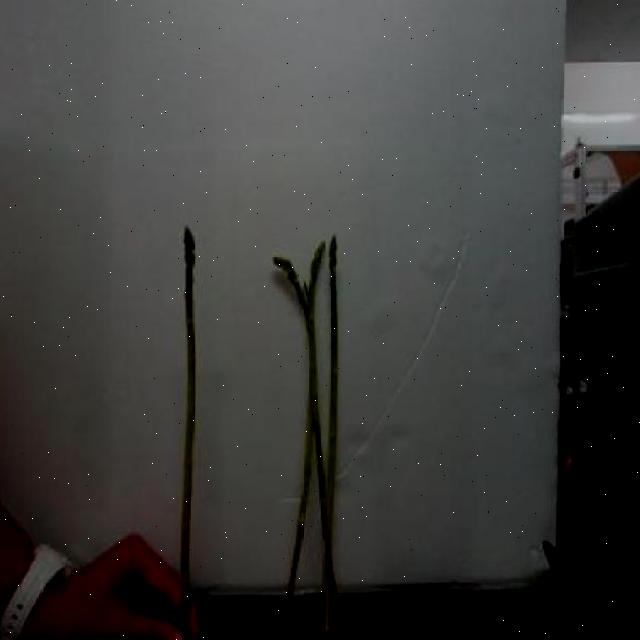aspargus: (182, 227, 200, 582)
